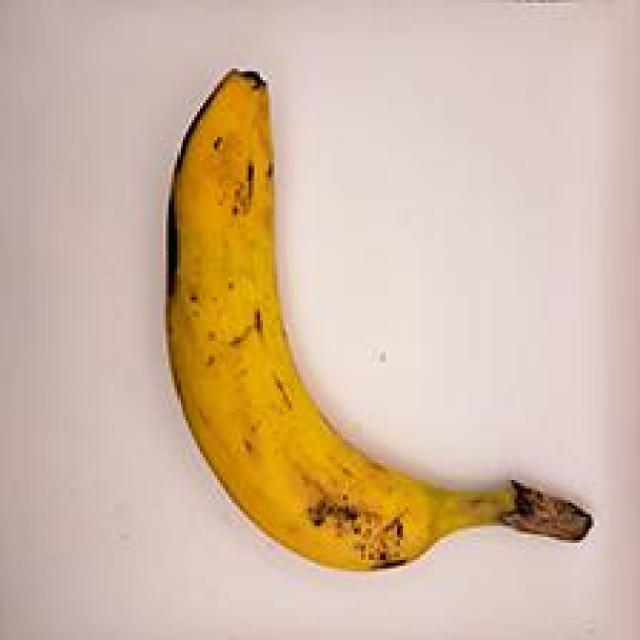Overripe: (130, 30, 612, 603)
